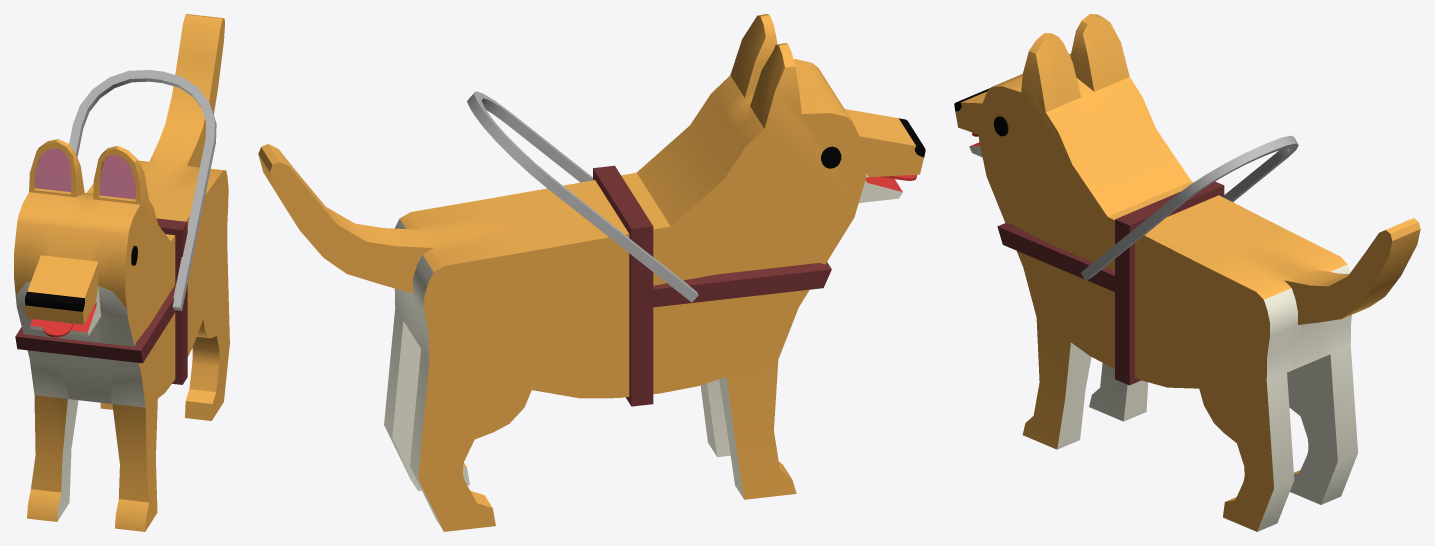
Rendered from guide_dog.fbx.
3 views of the same model, side by side, from view 1: azimuth 30°, elevation 25°; view 2: azimuth 150°, elevation 25°; view 3: azimuth 270°, elevation 25° (orthographic). The views are drawn at different scales.
Visible parts, largest first — view 1: Plane.001, Cube.6170, Plane.109, Cube.001; view 2: Plane.001, Cube.6170, Plane.109; view 3: Plane.001, Cube.6170, Plane.109.
Part boxes in pixels (<box>): Plane.001: <box>14,14,229,531</box>; Cube.6170: <box>15,218,187,384</box>; Plane.109: <box>69,70,216,310</box>; Cube.001: <box>43,320,73,337</box>; Plane.001: <box>258,14,925,531</box>; Cube.6170: <box>593,165,831,406</box>; Plane.109: <box>467,91,698,302</box>; Plane.001: <box>954,14,1420,531</box>; Cube.6170: <box>997,181,1224,385</box>; Plane.109: <box>1081,135,1298,280</box>.
Bounding box in the file's own units: 206 × 191 × 206.
Materials: 1 (1 with a texture image).
